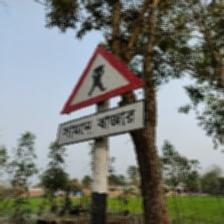Market-in-front: (56, 43, 146, 147)
